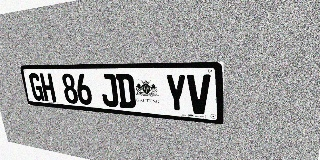6: (74, 74, 93, 105)
8: (61, 73, 79, 104)
D: (116, 74, 136, 109)
G: (28, 73, 45, 101)
H: (39, 73, 56, 102)
J: (99, 74, 119, 107)
V: (187, 74, 211, 115)
Y: (165, 74, 188, 113)
